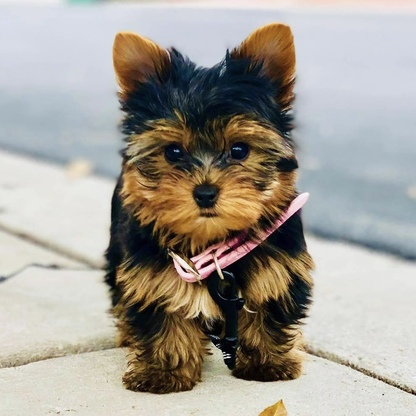yorkshire: (106, 20, 314, 395)
